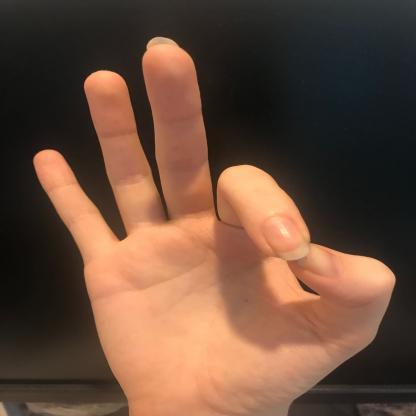F: (28, 32, 400, 412)
